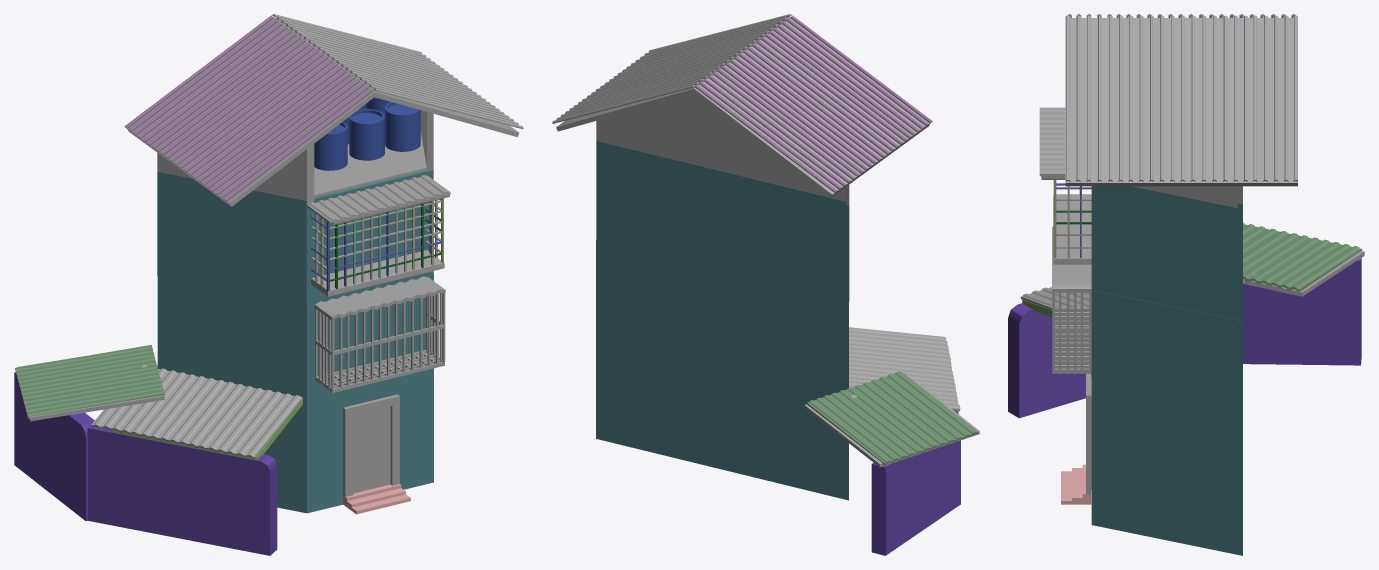
Rendered from house3.fbx.
The picture shows the model from 3 angles, left to right: view 1: azimuth 30°, elevation 25°; view 2: azimuth 150°, elevation 25°; view 3: azimuth 270°, elevation 25°; orthographic projection. The views are drawn at different scales.
Parts seen in each view (by area): view 1: wall, wall2, balcony5, wall3_2, balcony20, wall3, balcony10, balcony19, balcony6, wall3_3, water_2, balcony15 (+22 smaller); view 2: wall, wall2, wall3, balcony5, balcony20, wall4_2, balcony6, balcony19, wall3_3, balcony10, balcony11; view 3: balcony20, balcony19, wall2, wall3, wall, wall3_3, wall3_2, balcony6, balcony12, balcony15, balcony28, wall4_4 (+9 smaller).
Boxes of the visible parts, bbox=[...] form: wall: bbox=[157, 170, 433, 305]; wall2: bbox=[157, 273, 433, 409]; balcony5: bbox=[124, 15, 373, 201]; wall3_2: bbox=[87, 425, 277, 555]; balcony20: bbox=[127, 17, 519, 206]; wall3: bbox=[264, 378, 433, 513]; balcony10: bbox=[91, 365, 302, 458]; balcony19: bbox=[272, 14, 523, 129]; balcony6: bbox=[15, 345, 164, 418]; wall3_3: bbox=[14, 372, 94, 520]; water_2: bbox=[314, 97, 420, 170]; balcony15: bbox=[307, 175, 450, 223]; wall: bbox=[596, 141, 849, 301]; wall2: bbox=[596, 240, 848, 395]; wall3: bbox=[596, 339, 848, 500]; balcony5: bbox=[695, 15, 932, 192]; balcony20: bbox=[556, 17, 929, 197]; wall4_2: bbox=[596, 93, 844, 201]; balcony6: bbox=[807, 371, 978, 465]; balcony19: bbox=[552, 14, 791, 123]; wall3_3: bbox=[871, 440, 960, 555]; balcony10: bbox=[849, 327, 960, 411]; balcony11: bbox=[804, 371, 979, 467]; balcony20: bbox=[1065, 18, 1297, 186]; balcony19: bbox=[1065, 15, 1297, 181]; wall2: bbox=[1091, 290, 1242, 438]; wall3: bbox=[1091, 408, 1242, 555]; wall: bbox=[1091, 186, 1242, 320]; wall3_3: bbox=[1243, 258, 1361, 365]; wall3_2: bbox=[1008, 303, 1091, 418]; balcony6: bbox=[1243, 222, 1362, 291]; balcony12: bbox=[1053, 194, 1091, 264]; balcony15: bbox=[1039, 107, 1065, 176]; balcony28: bbox=[1052, 226, 1091, 292]; wall4_4: bbox=[1132, 186, 1237, 207].
Bounding box in the file's own units: 10.81 × 10.3 × 7.06.
